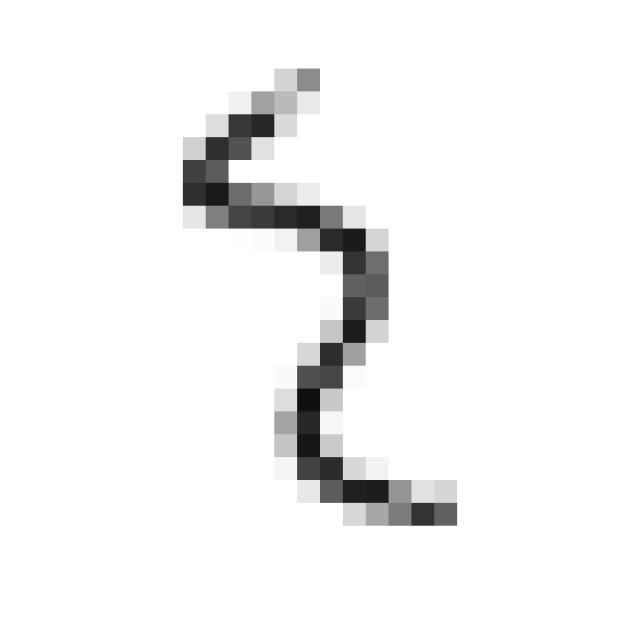4 -four-: (165, 41, 473, 540)
